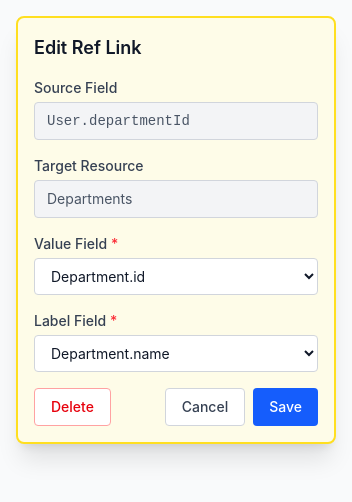
Test: RefLinkEditPanel › should display validation error when saving without selecting valueField
Select "Select a field..." in the dropdown with test id "value-field-select": [176, 276] box [34,258,318,295]
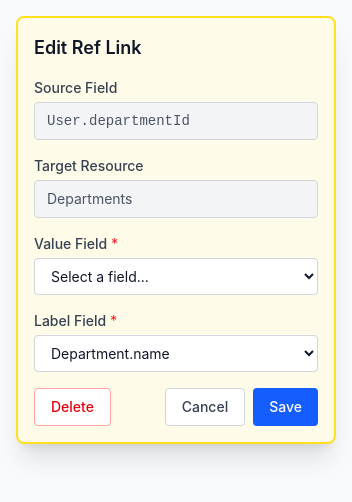
Click the button with test id "save-button": [286, 407] box [253,388,318,426]
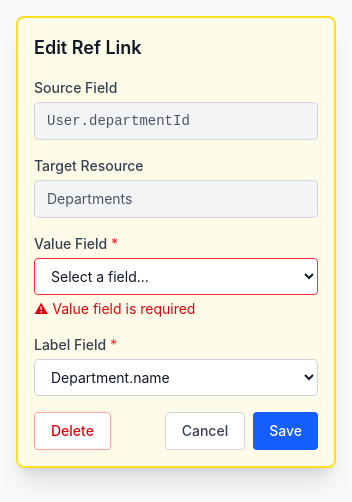
Check: the message with test id "value-field-error" shows "Value field is required", box [52,300,196,317]
